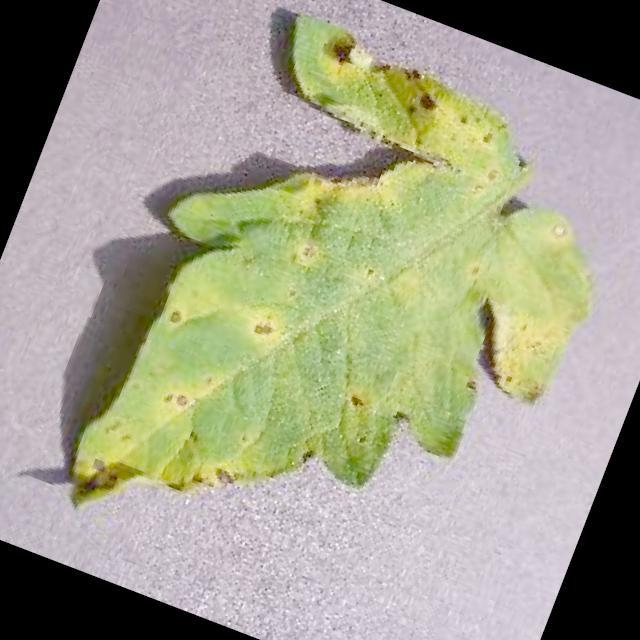Tomato Septoria spot leaf: (46, 0, 640, 640)
